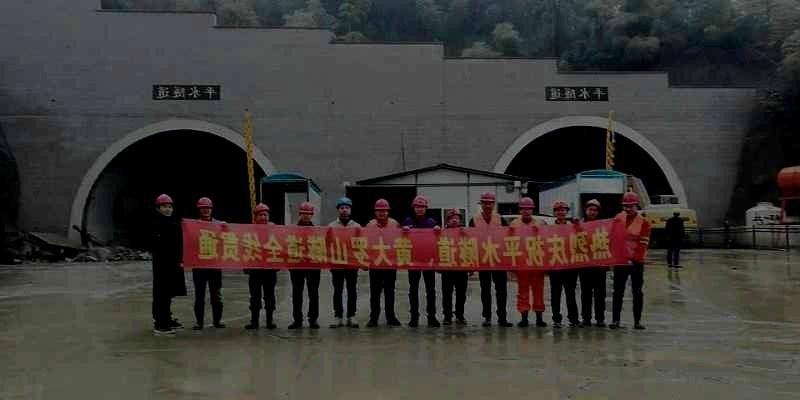helmet: (156, 193, 177, 217), (622, 192, 642, 217), (519, 196, 537, 219), (585, 198, 603, 220), (481, 190, 497, 214), (197, 197, 215, 218), (255, 203, 273, 224), (412, 195, 430, 216), (375, 198, 392, 220), (554, 201, 572, 220), (299, 202, 316, 222), (337, 197, 354, 217), (448, 208, 463, 227), (673, 207, 682, 217)
